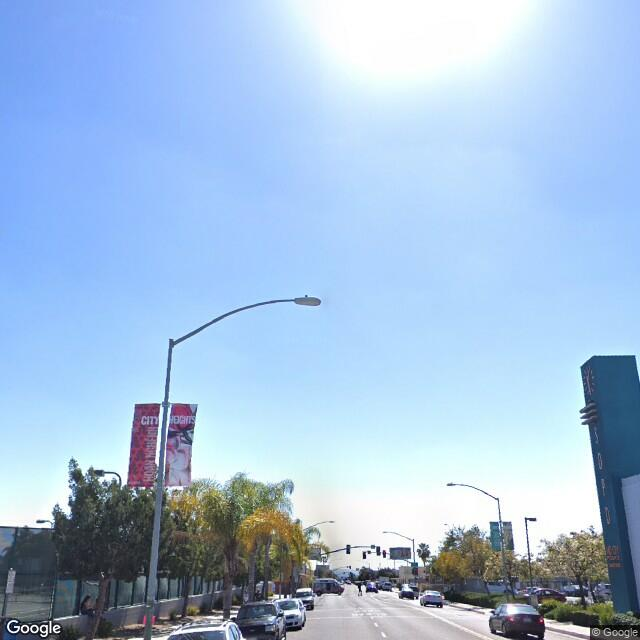light: (288, 293, 324, 307)
